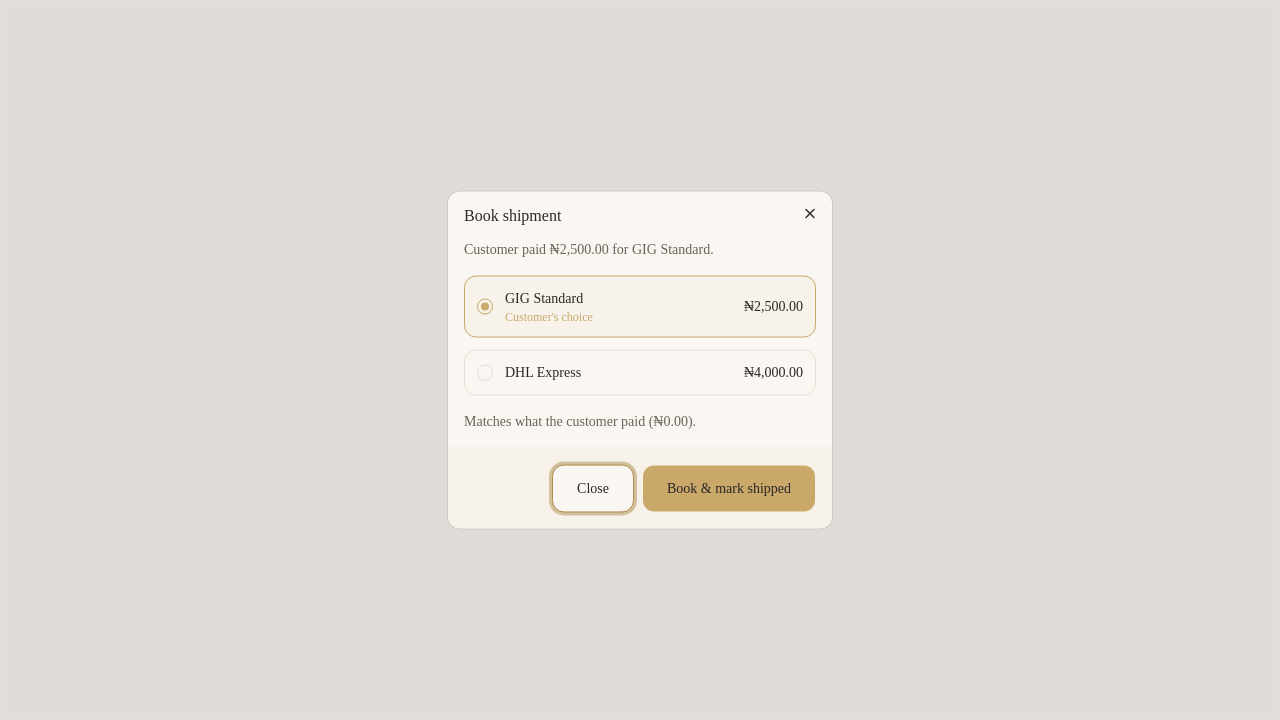
Scenario: BookShipmentDialog › a booking conflict that carries a shipbubbleOrderId surfaces the ShipBubble reference
Expected: the radio button named "gig standard" next to "Customer's choice" is shown, [477,298,493,314]
Click the button "Book & mark shipped" at (729, 488), box [642,464,816,512]
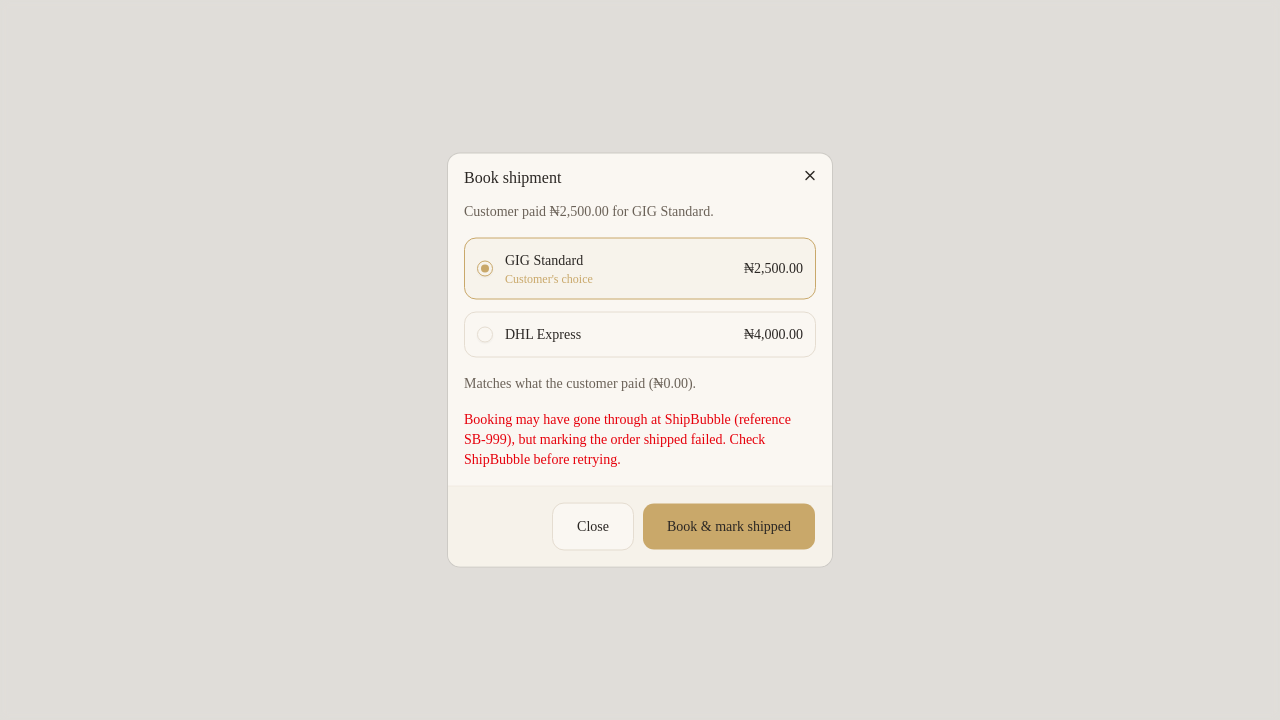
Expected: the message shows "SB-999", [464,412,791,466]
